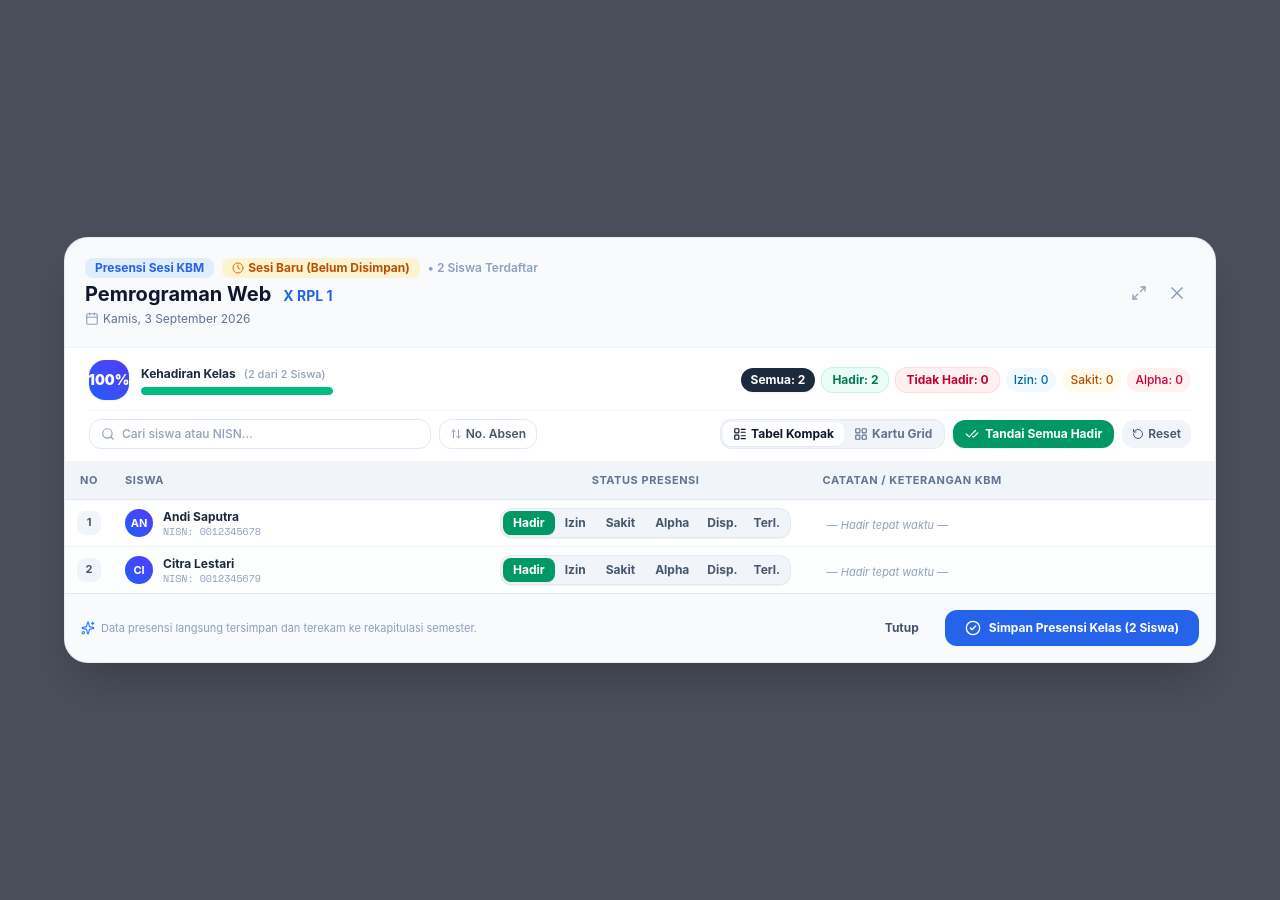
Scenario: SessionAttendanceModal › changes individual student status when a status button is clicked
Check: the text "Andi Saputra" is shown, box [163, 508, 239, 524]
Find all 'Izin' buttons
Click the button "Izin" in the row of "Andi Saputra": [575, 523] box [555, 511, 596, 535]
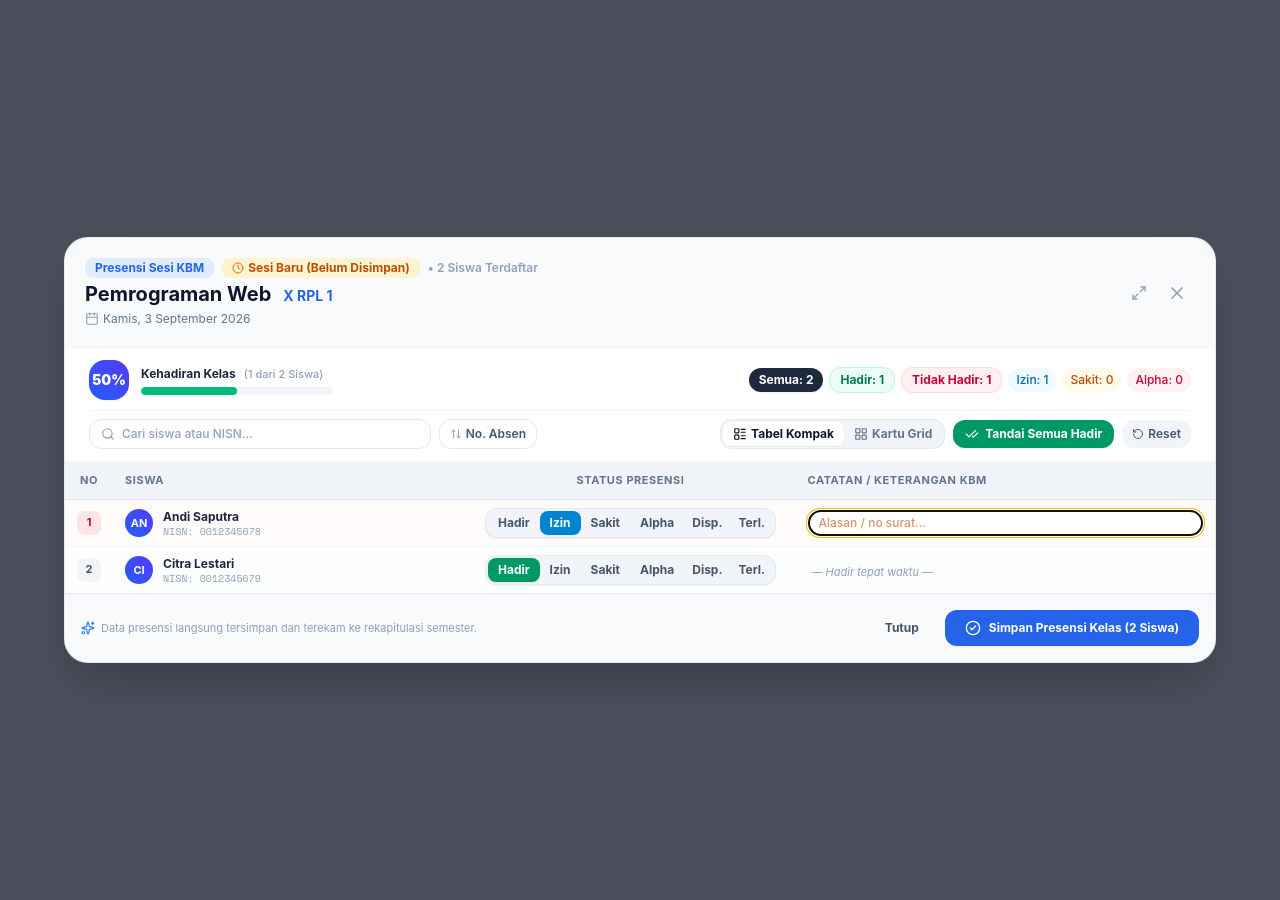
Check: the field with placeholder "Alasan / no surat..." is shown, box [808, 510, 1203, 536]
